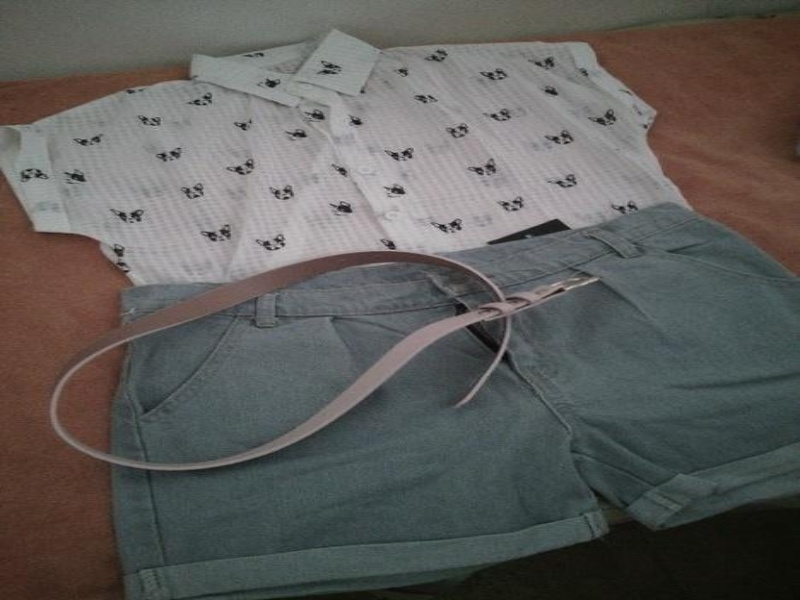short_sleeved_shirt: (0, 23, 786, 464)
shorts: (72, 193, 798, 599)
